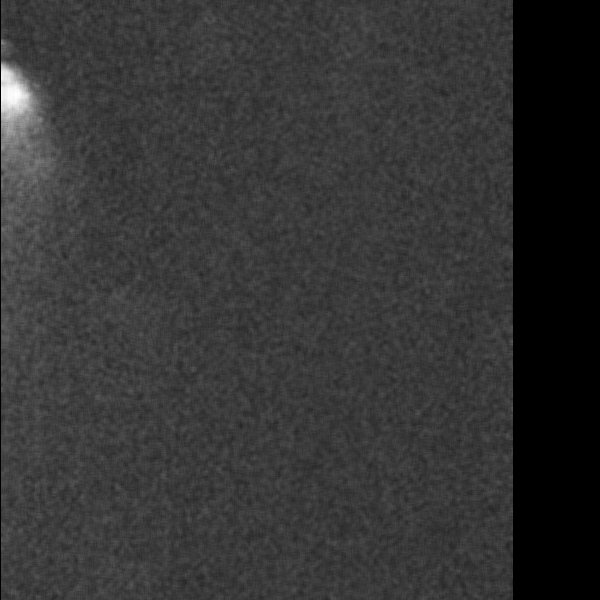spark: (287, 1, 358, 69), (366, 45, 429, 84), (44, 1, 81, 46)
